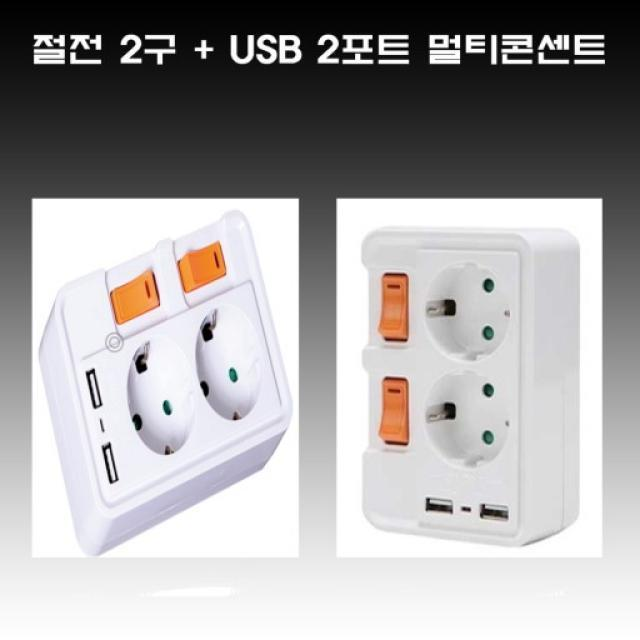typeb: (24, 195, 301, 560), (342, 195, 603, 559)
